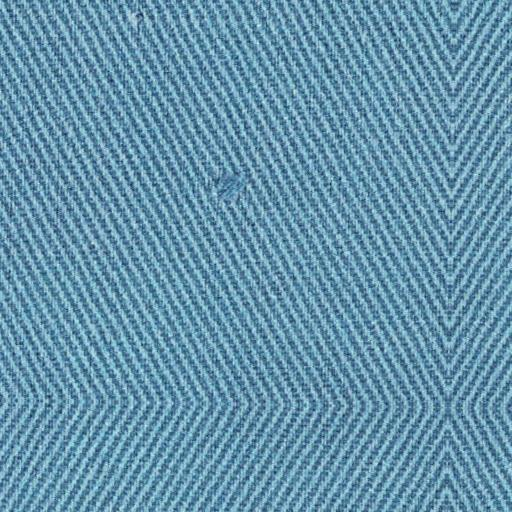knot: (207, 170, 257, 211)
